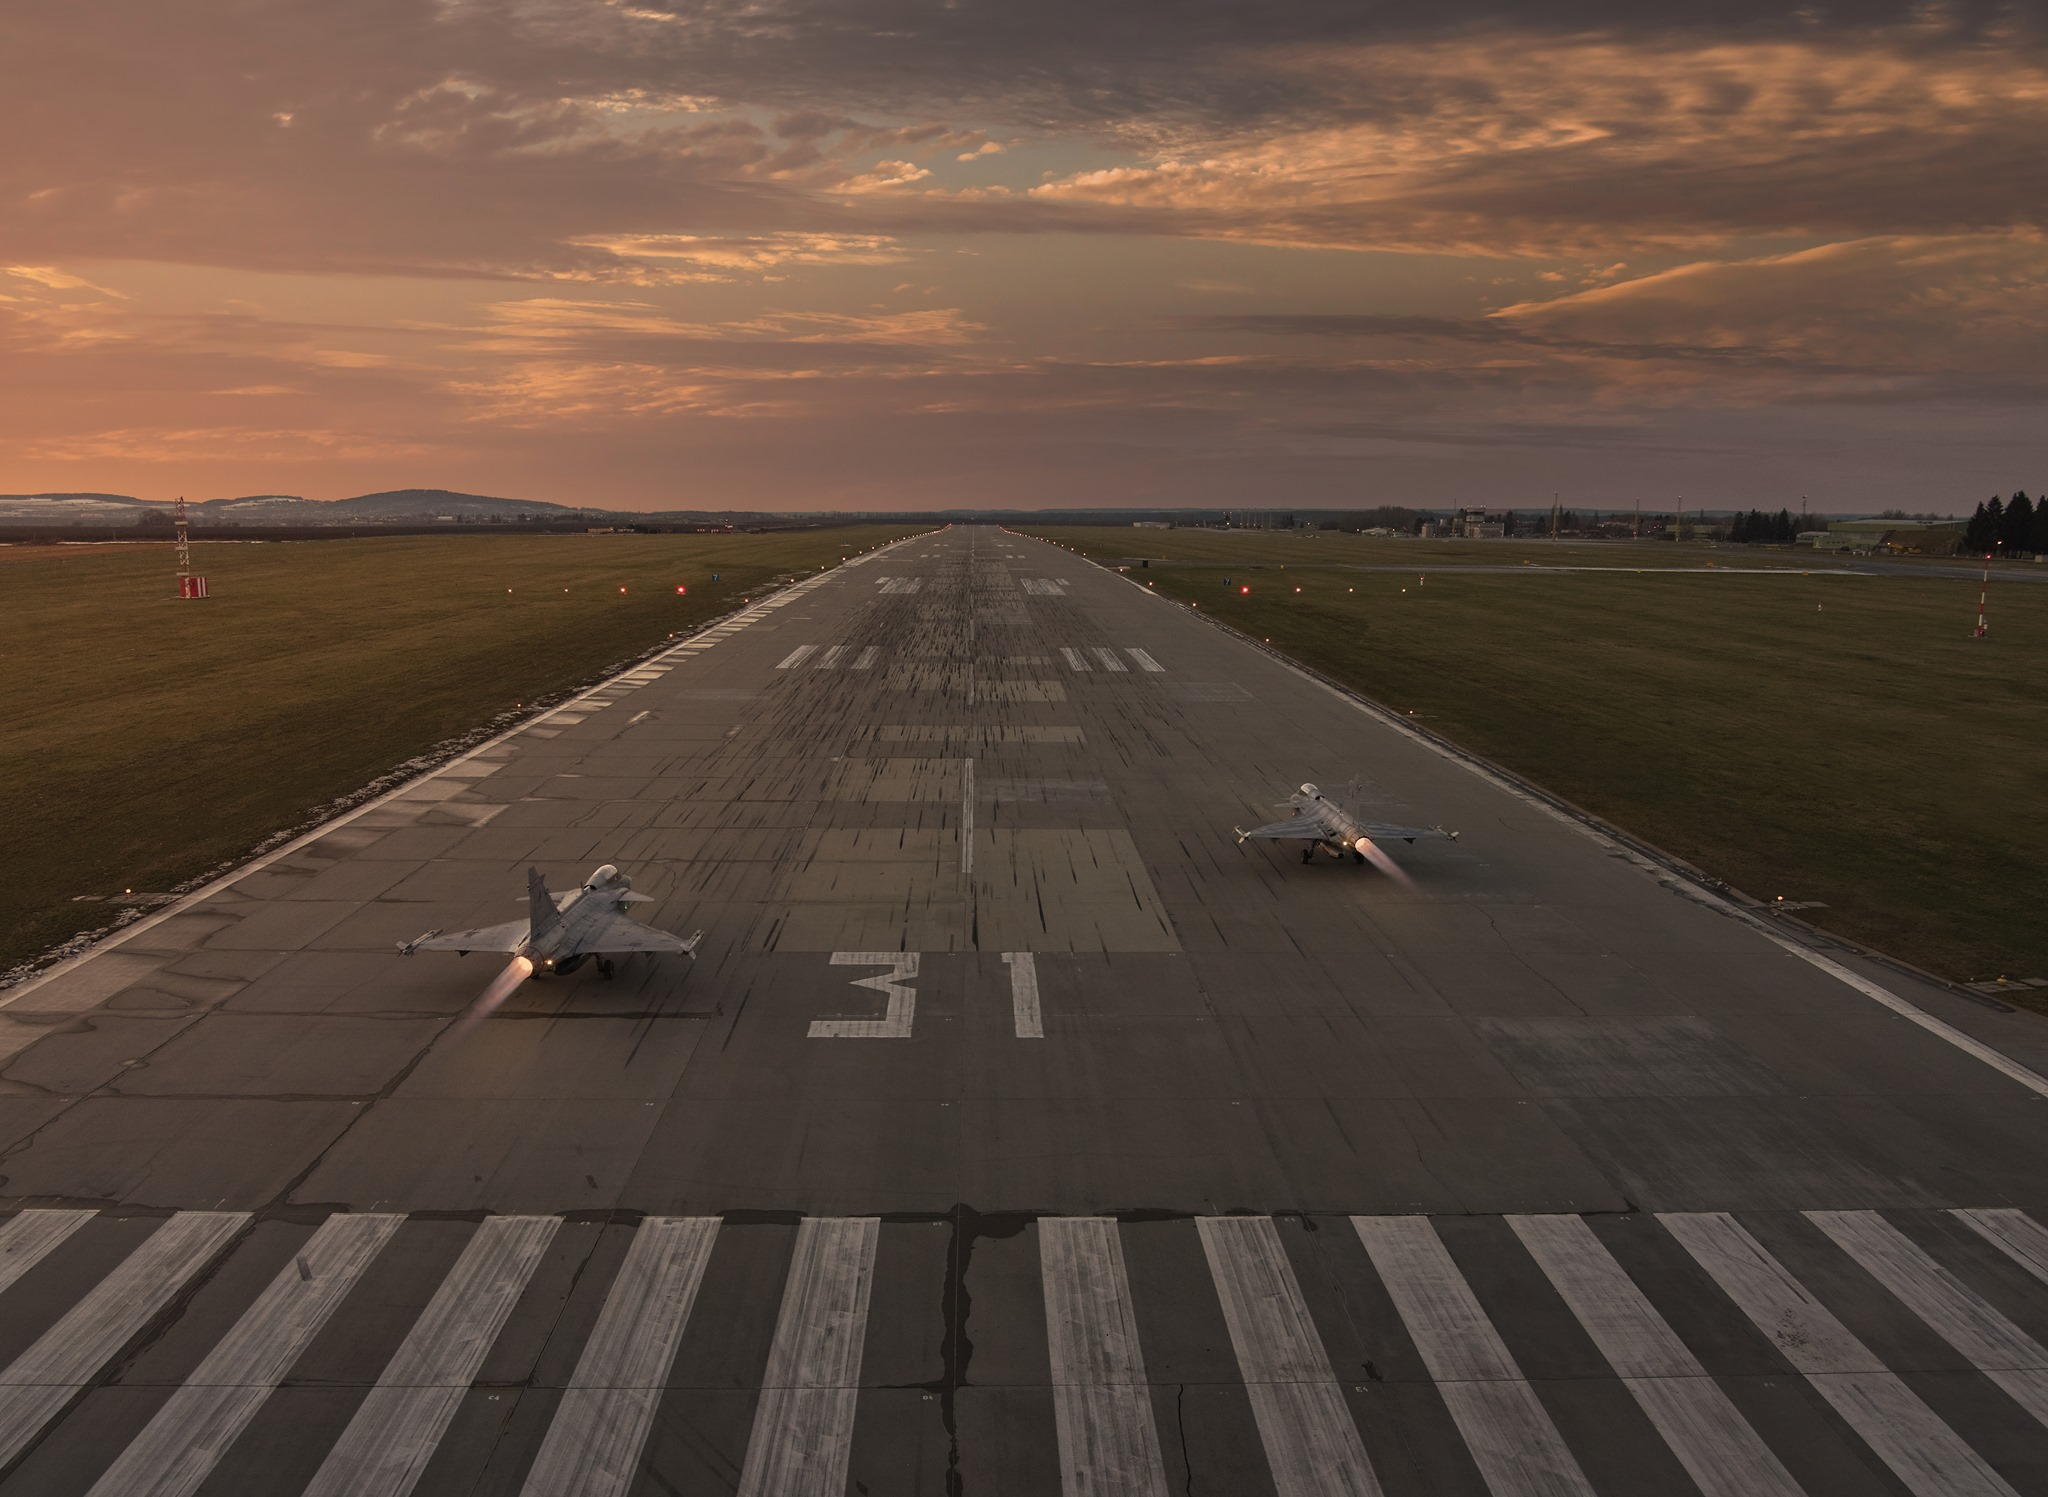JAS39: (394, 862, 704, 982), (1231, 772, 1460, 865)
